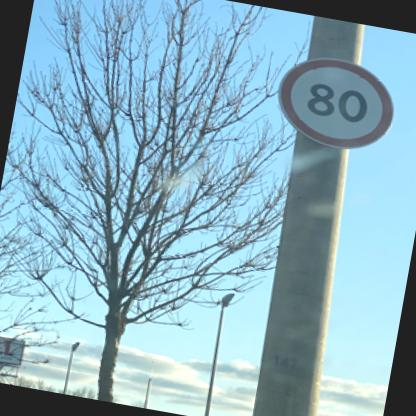speedlimit: (269, 48, 400, 155)
